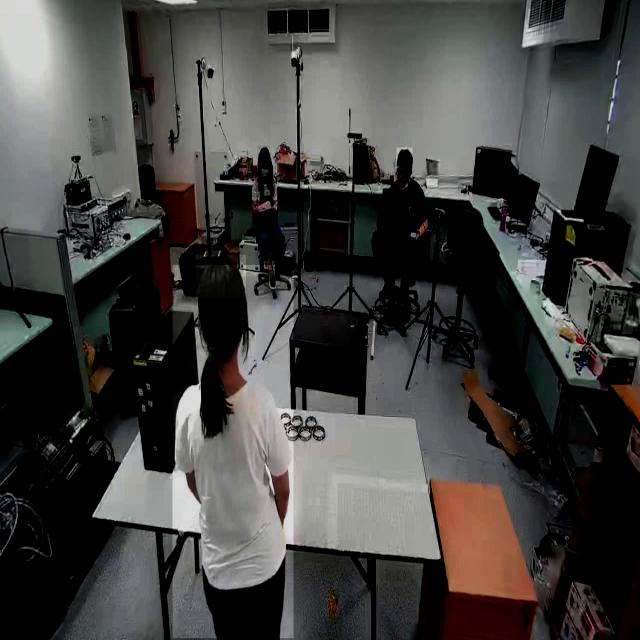face_nomask: (396, 165, 410, 186)
hand_glove: (258, 162, 272, 184)
hand_noglove: (407, 224, 421, 241), (259, 199, 271, 211)
head_nohelmet: (196, 255, 246, 300), (397, 148, 413, 164), (258, 146, 270, 160)
person: (172, 265, 294, 639), (371, 150, 431, 326), (250, 147, 288, 290)
